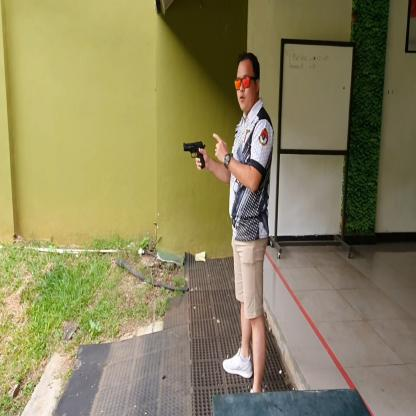handgun: (181, 139, 208, 171)
